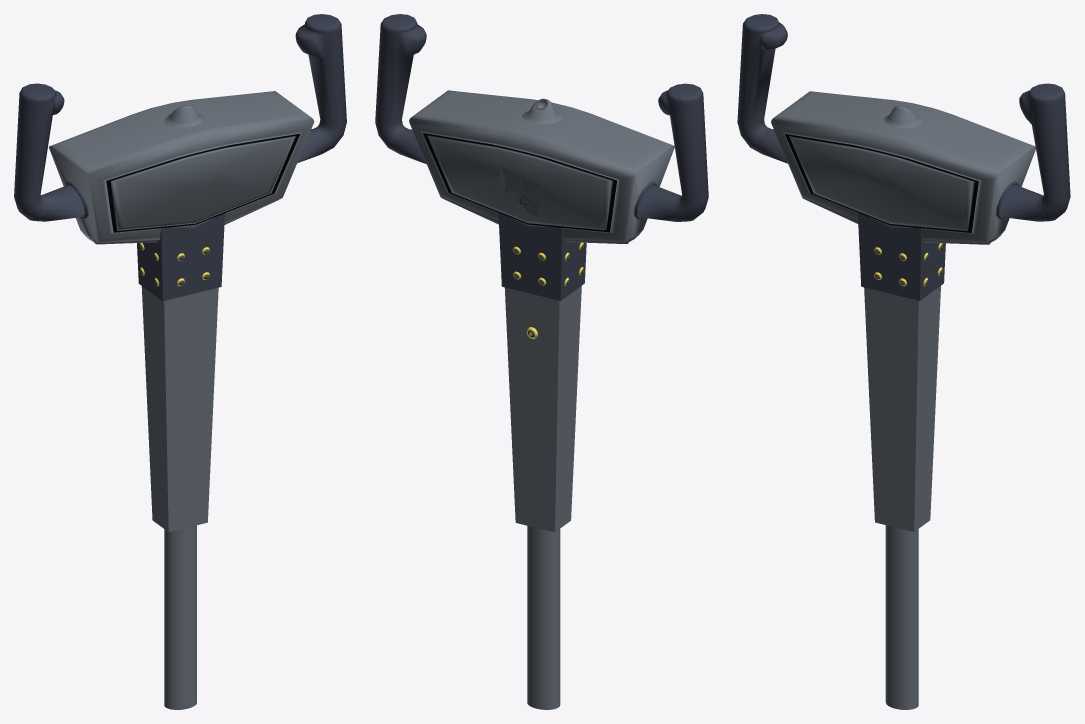
File: controler.fbx
The picture shows the model from 3 angles, left to right: view 1: azimuth 30°, elevation 25°; view 2: azimuth 150°, elevation 25°; view 3: azimuth 330°, elevation 25°; orthographic projection.
Parts seen in each view (by area): view 1: controllerpart2, controllerpart1; view 2: controllerpart2, controllerpart1; view 3: controllerpart2, controllerpart1.
Boxes of the visible parts, x1=… form: controllerpart2: x1=14, y1=14, x2=346, y2=244; controllerpart1: x1=137, y1=213, x2=224, y2=709; controllerpart2: x1=375, y1=14, x2=708, y2=243; controllerpart1: x1=498, y1=213, x2=586, y2=709; controllerpart2: x1=737, y1=14, x2=1070, y2=244; controllerpart1: x1=857, y1=212, x2=945, y2=709.
Size of the model in its own units: 283 by 532 by 75.96.
